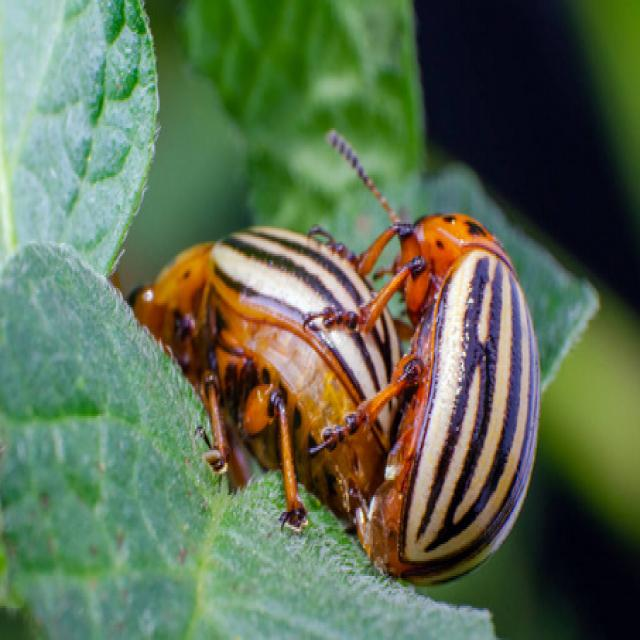ShuCaiHuaBanChong-Grown-: (162, 232, 407, 510), (392, 182, 551, 569)
